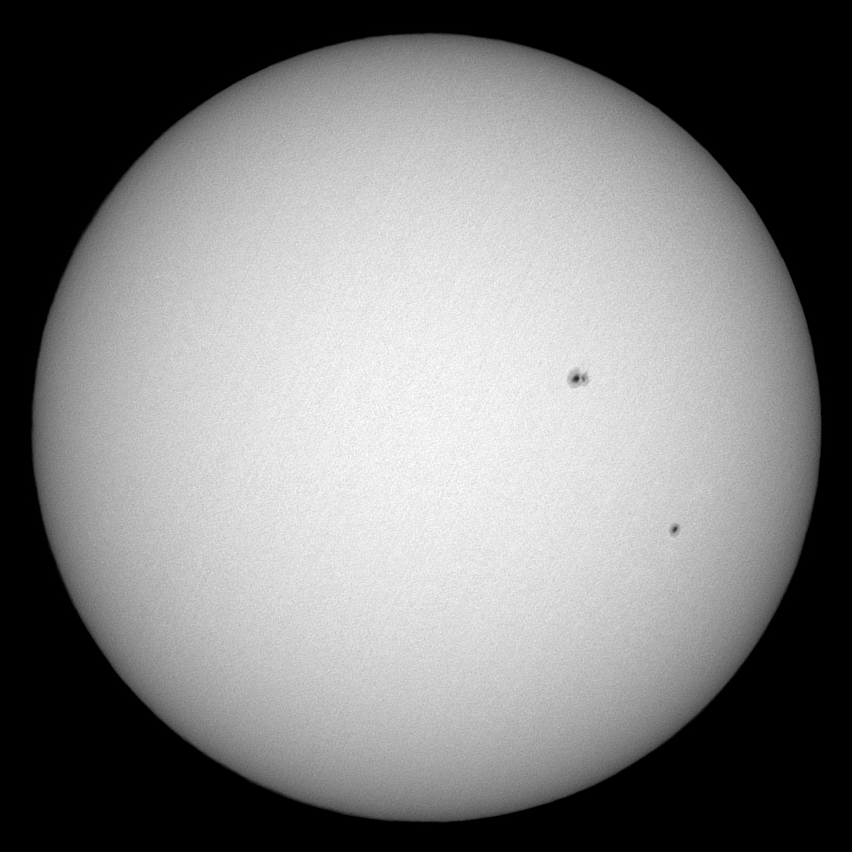sunspot: (564, 365, 593, 390), (664, 521, 684, 539)
